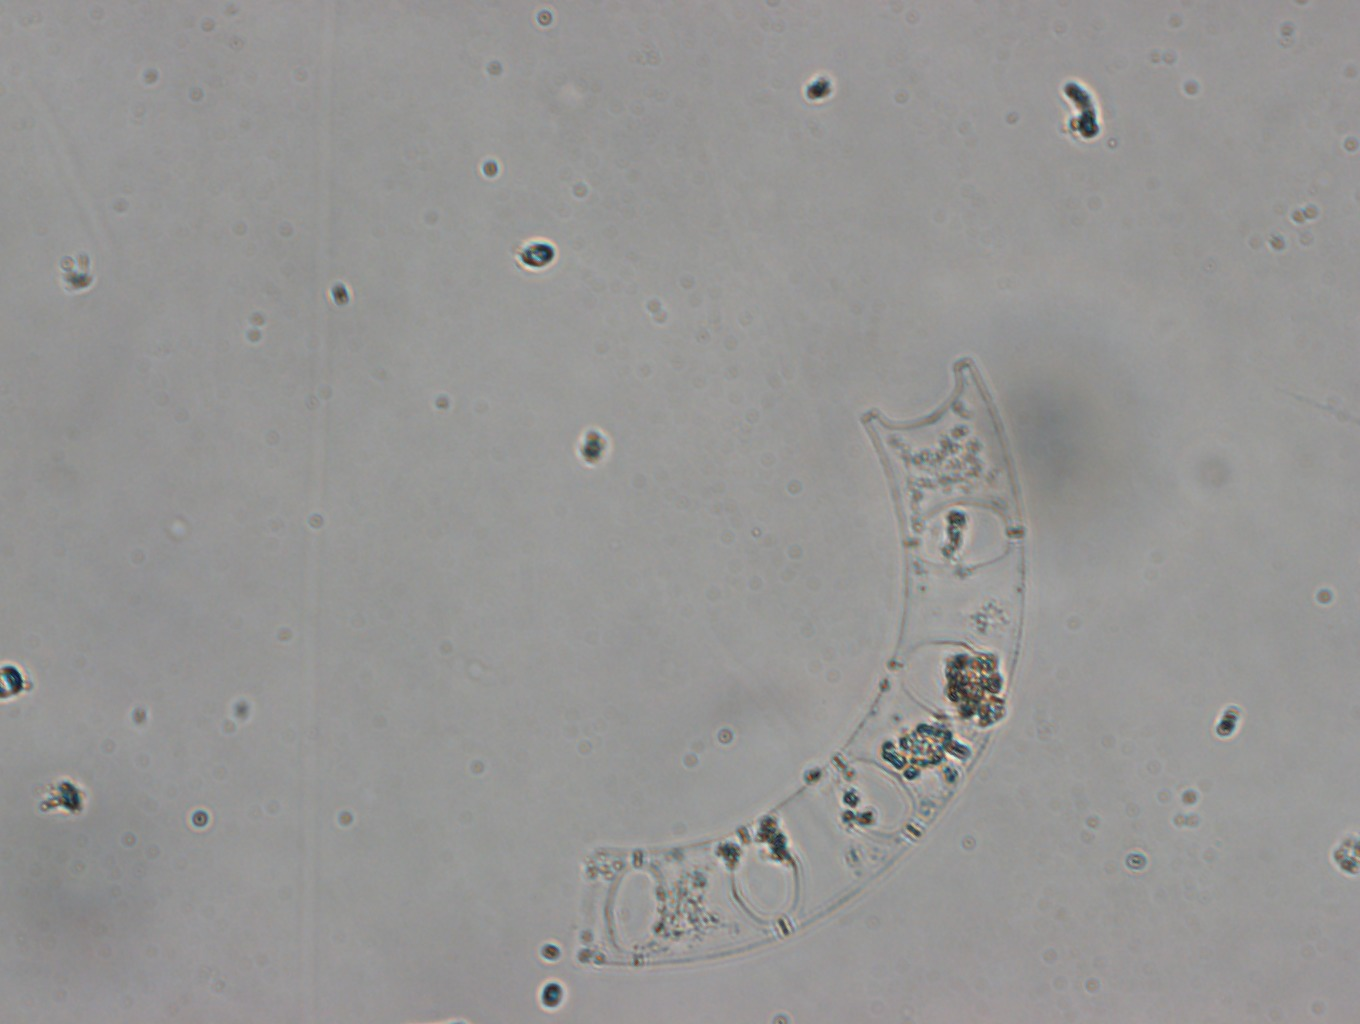eucampia: (577, 352, 1028, 968)
